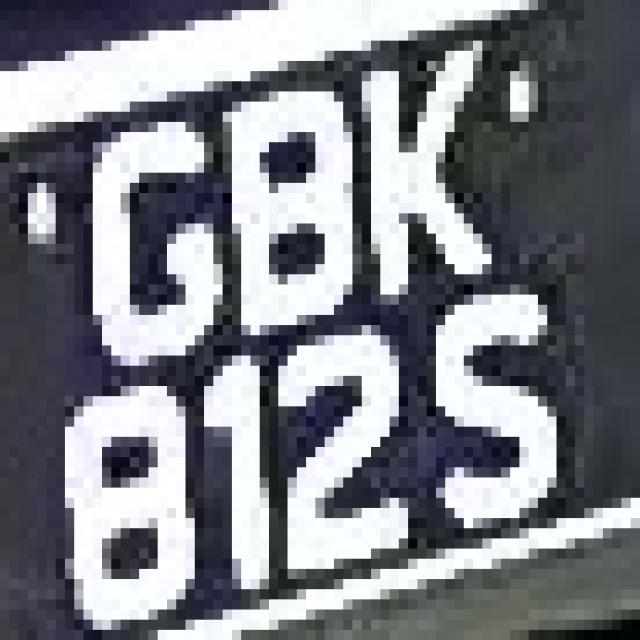1: (185, 336, 288, 600)
2: (260, 295, 445, 579)
8: (46, 345, 204, 640)
B: (204, 61, 353, 335)
G: (102, 91, 223, 376)
K: (353, 61, 510, 325)
S: (399, 284, 603, 579)
